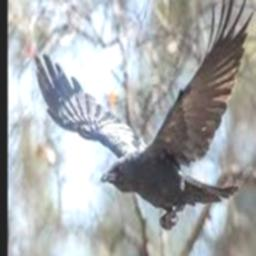Crow: (33, 0, 254, 230)
